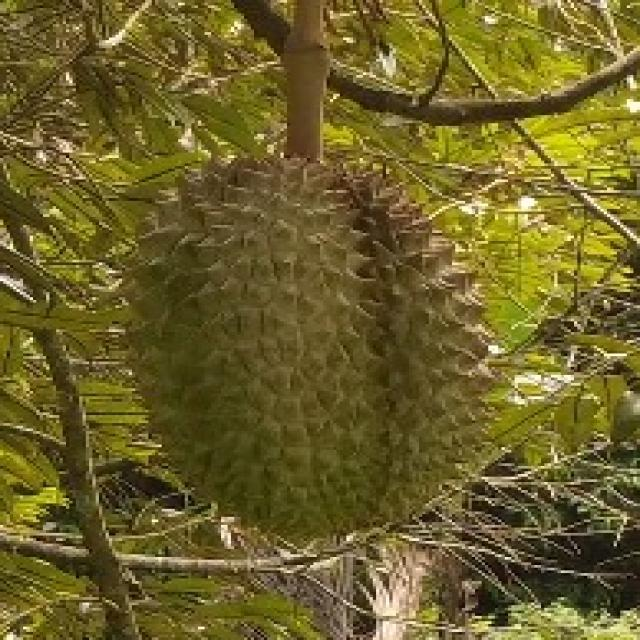immature: (106, 148, 496, 547)
